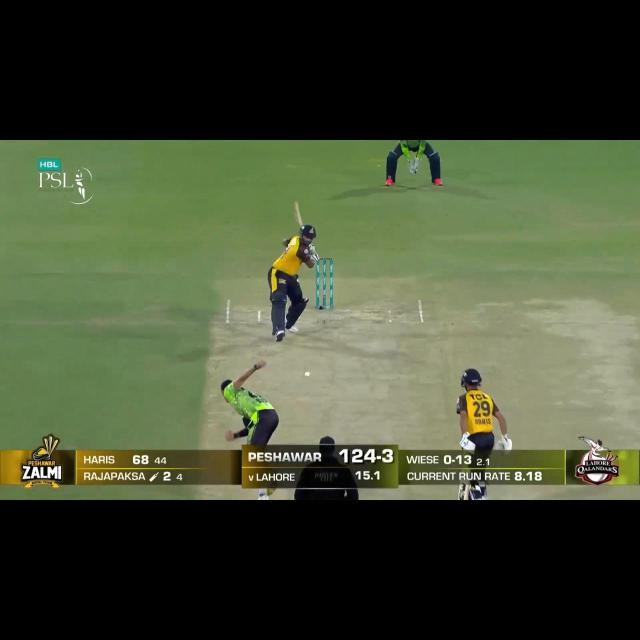bat: (291, 201, 304, 229), (458, 485, 469, 500)
toe: (292, 201, 299, 208)
